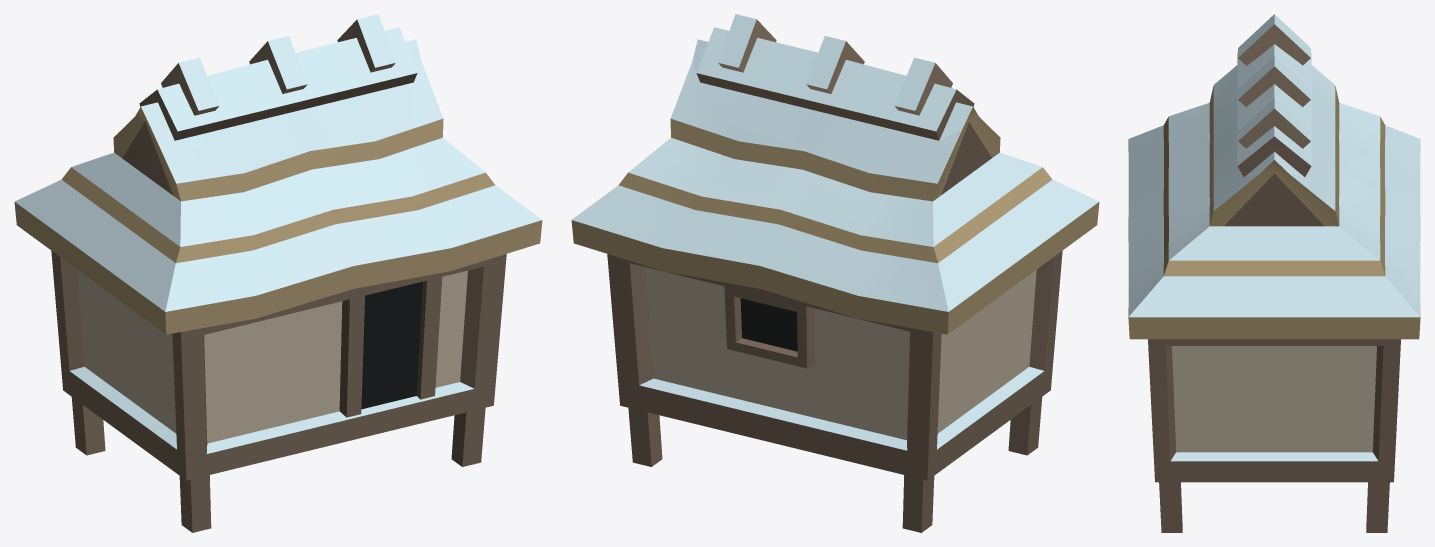
File: SM_Bld_Samurai_House_01_Snow.glb
The picture shows the model from 3 angles, left to right: view 1: azimuth 30°, elevation 25°; view 2: azimuth 150°, elevation 25°; view 3: azimuth 270°, elevation 25°; orthographic projection. The views are drawn at different scales.
Parts seen in each view (by area): view 1: SM_Bld_Samurai_House_01_Snow; view 2: SM_Bld_Samurai_House_01_Snow; view 3: SM_Bld_Samurai_House_01_Snow.
Part boxes in pixels (box(x1,y1,x2,y2)): SM_Bld_Samurai_House_01_Snow: box(14, 14, 542, 532); SM_Bld_Samurai_House_01_Snow: box(571, 14, 1099, 532); SM_Bld_Samurai_House_01_Snow: box(1128, 14, 1420, 532).
Size of the model in its own units: 1.06 by 1.12 by 0.7349.
1 material, 1 textured.
